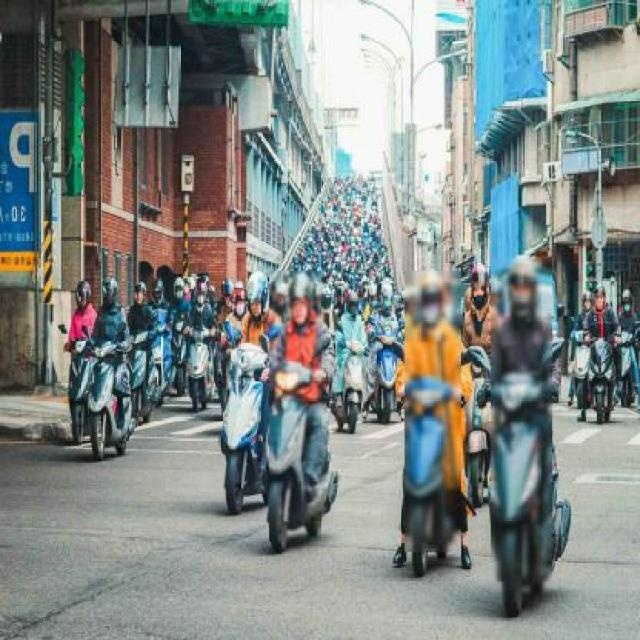Motorcycle: (475, 379, 571, 615), (400, 379, 479, 575), (215, 340, 271, 503)
